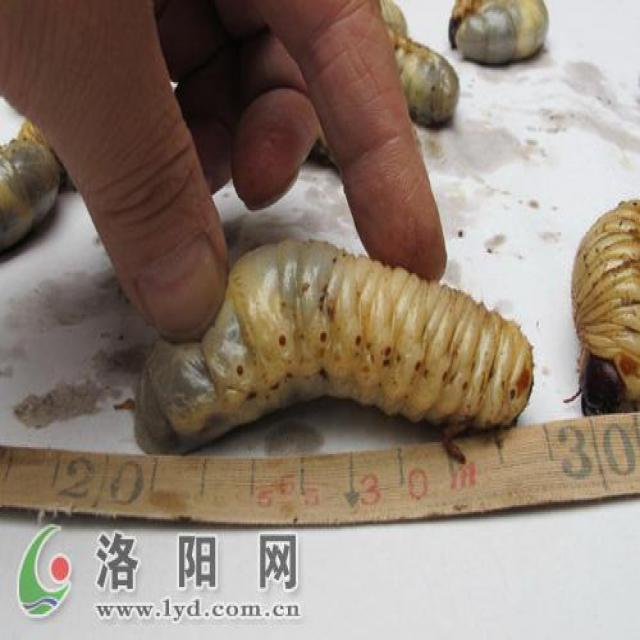Grub-Adult-: (125, 218, 538, 453)
